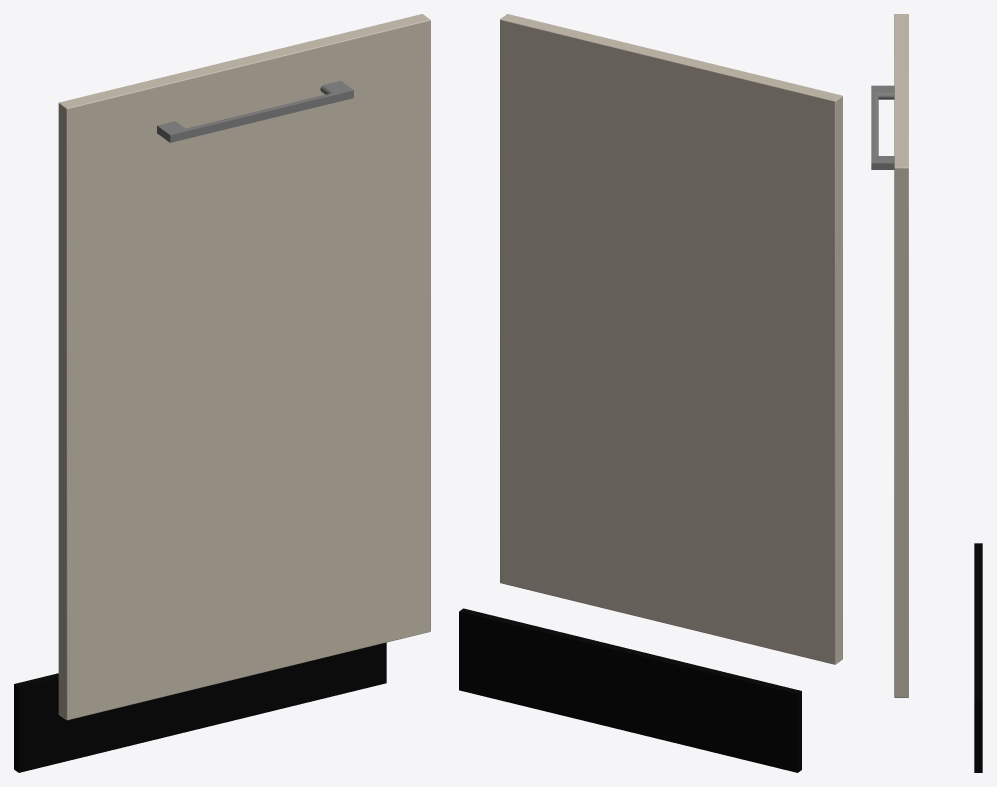
3 renders of one model, left to right at view 1: azimuth 30°, elevation 25°; view 2: azimuth 150°, elevation 25°; view 3: azimuth 270°, elevation 25°, orthographic. The views are drawn at different scales.
Parts seen in each view (by area): view 1: r26, Union; view 2: r26; view 3: r26, Union.
Part boxes in pixels (bbox=[...]): r26: bbox=[14, 14, 430, 772]; Union: bbox=[157, 80, 353, 142]; r26: bbox=[459, 14, 842, 772]; r26: bbox=[894, 14, 982, 772]; Union: bbox=[871, 85, 894, 169].
Size of the model in its own units: 0.45 by 0.816 by 0.136.
Materials: 3 (1 with a texture image).
